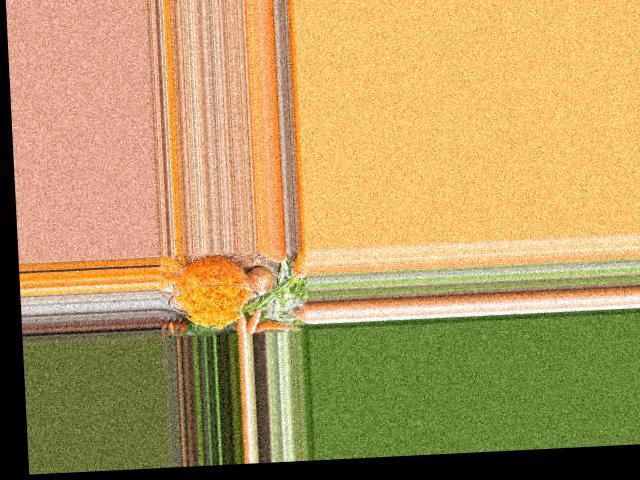carrot: (236, 313, 246, 332)
